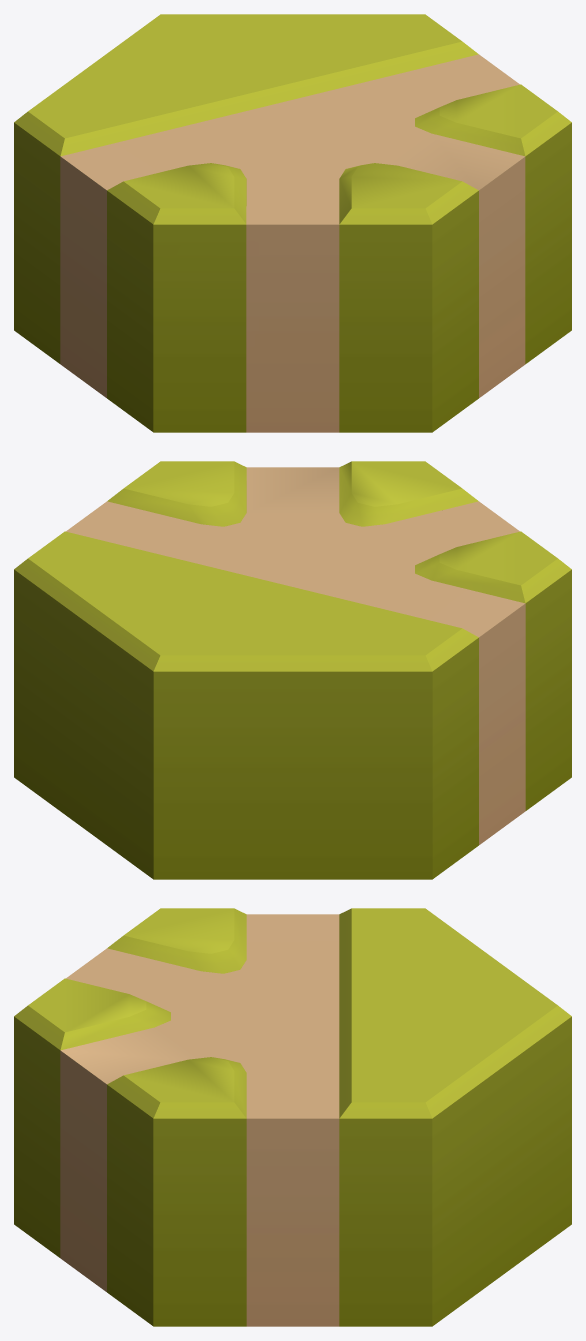
The model's file is kaykit-medieval-hexagon-pack-hex-road-j.glb.
3 views of the same model, one above another, from view 1: azimuth 30°, elevation 25°; view 2: azimuth 150°, elevation 25°; view 3: azimuth 270°, elevation 25° (orthographic).
Visible parts, largest first — view 1: hex_road_J; view 2: hex_road_J; view 3: hex_road_J.
Part boxes in pixels (x1,y1,x2,y2): hex_road_J: [14, 14, 571, 432]; hex_road_J: [14, 461, 571, 879]; hex_road_J: [14, 908, 571, 1326].
Size of the model in its own units: 2 by 1 by 2.31.
1 material, 1 textured.
